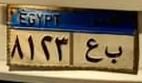1: (28, 32, 35, 65)
2: (40, 34, 53, 62)
3: (54, 34, 69, 62)
8: (10, 32, 22, 62)
ain: (86, 37, 102, 64)
baa: (102, 40, 127, 64)
